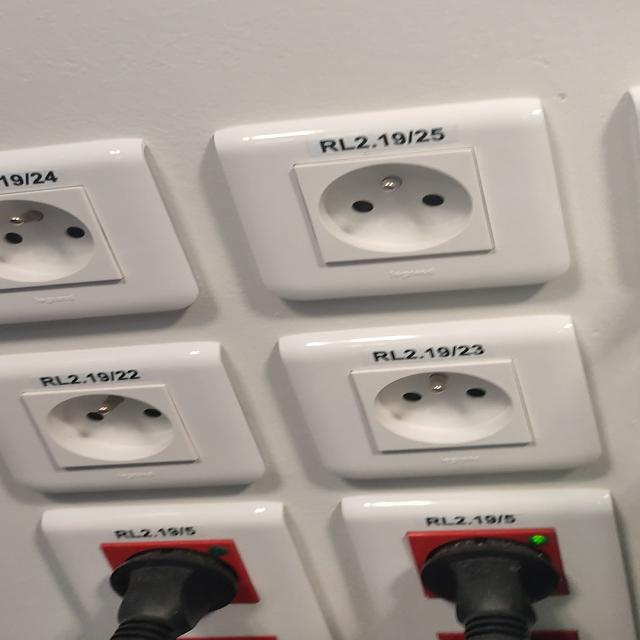house plug: (296, 148, 496, 264), (353, 358, 535, 453), (22, 384, 199, 469), (0, 187, 123, 291)
